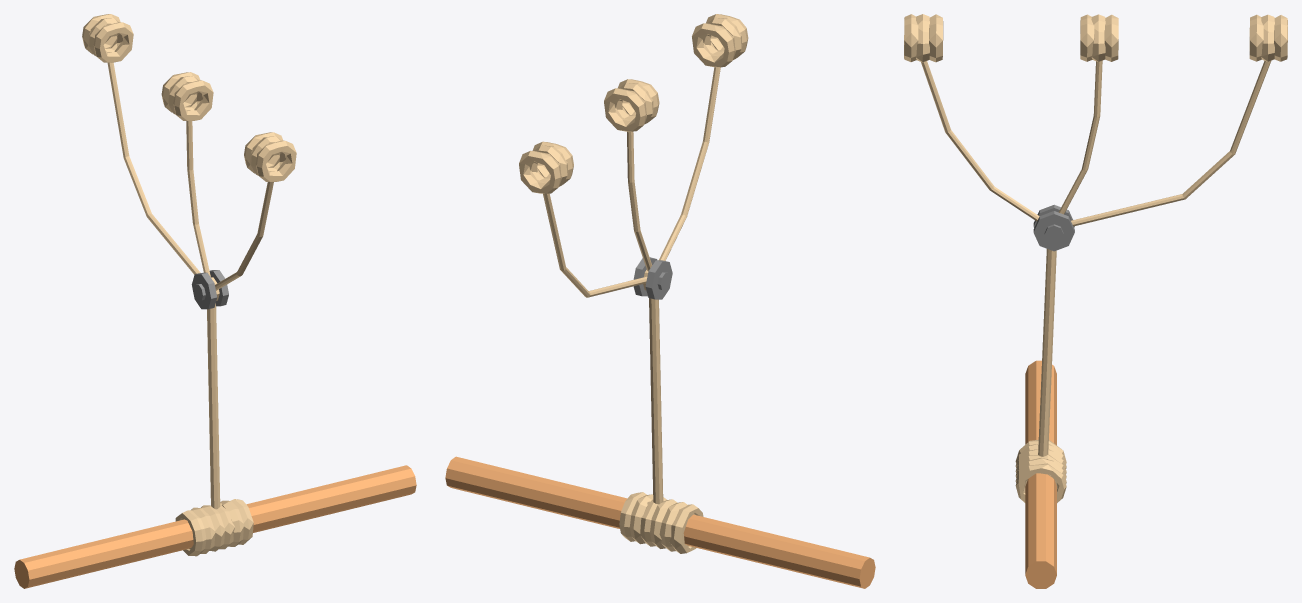
Rendered from trebuchet.rope.fbx.
3 renders of one model, left to right at view 1: azimuth 30°, elevation 25°; view 2: azimuth 150°, elevation 25°; view 3: azimuth 270°, elevation 25°, orthographic. The views are drawn at different scales.
Parts seen in each view (by area): view 1: trebuchet.rope; view 2: trebuchet.rope; view 3: trebuchet.rope.
Boxes of the visible parts, <box> form: trebuchet.rope: <box>14,14,416,588</box>; trebuchet.rope: <box>445,14,875,588</box>; trebuchet.rope: <box>904,14,1287,588</box>.
Bounding box in the file's own units: 3.7 × 4.14 × 2.99.
